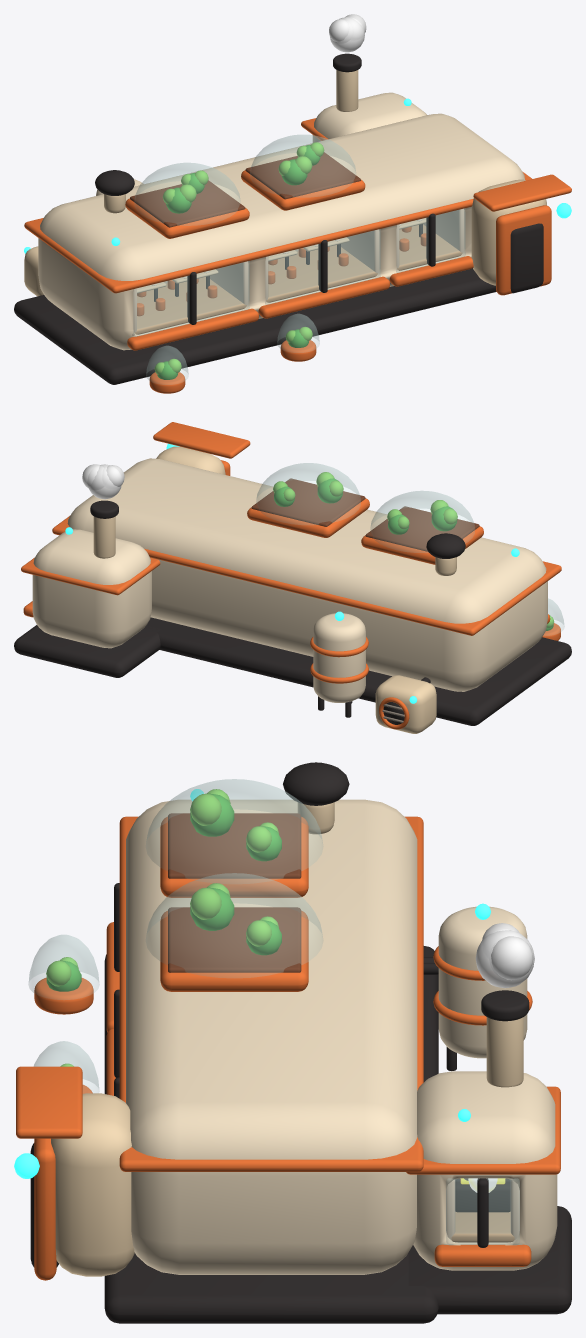
Rendered from canteen-20.glb.
The picture shows the model from 3 angles, top to bottom: view 1: azimuth 30°, elevation 25°; view 2: azimuth 150°, elevation 25°; view 3: azimuth 270°, elevation 25°; orthographic projection. The views are drawn at different scales.
Visible parts, largest first — view 1: Cube.001, Cube.008, Cube, Cube.009, Cube.003, Cube.006, Cube.051, Cube.002, Sphere.002, Cylinder.052, Sphere.015; view 2: Cube.001, Cube, Cube.009, Cube.008, Cube.006, Cube.051, Cylinder.052, Sphere.002, Sphere.015; view 3: Cube.001, Cube.008, Cube, Cube.009, Cube.006, Cube.051, Sphere.002, Cylinder.052, Sphere.015, Cube.003, Cube.002, Sphere.013.
Part boxes in pixels (x1=…): Cube.001: x1=38, y1=92, x2=524, y2=350; Cube.008: x1=133, y1=134, x2=465, y2=384; Cube: x1=14, y1=53, x2=543, y2=384; Cube.009: x1=24, y1=118, x2=571, y2=393; Cube.003: x1=135, y1=224, x2=462, y2=334; Cube.006: x1=24, y1=70, x2=546, y2=296; Cube.051: x1=130, y1=152, x2=360, y2=227; Cube.002: x1=132, y1=208, x2=464, y2=335; Sphere.002: x1=154, y1=142, x2=324, y2=374; Cylinder.052: x1=157, y1=145, x2=320, y2=379; Sphere.015: x1=329, y1=14, x2=366, y2=52; Cube.001: x1=32, y1=458, x2=547, y2=702; Cube: x1=14, y1=500, x2=571, y2=725; Cube.009: x1=21, y1=422, x2=561, y2=729; Cube.008: x1=256, y1=463, x2=564, y2=635; Cube.006: x1=93, y1=446, x2=456, y2=733; Cube.051: x1=251, y1=478, x2=479, y2=551; Cylinder.052: x1=274, y1=478, x2=553, y2=630; Sphere.002: x1=273, y1=472, x2=554, y2=627; Sphere.015: x1=82, y1=464, x2=124, y2=499; Cube.001: x1=126, y1=799, x2=557, y2=1274; Cube.008: x1=28, y1=779, x2=519, y2=1244; Cube: x1=30, y1=762, x2=571, y2=1323; Cube.009: x1=16, y1=816, x2=560, y2=1280; Cube.006: x1=51, y1=802, x2=523, y2=1276; Cube.051: x1=168, y1=813, x2=301, y2=972; Sphere.002: x1=46, y1=789, x2=278, y2=1066; Cylinder.052: x1=46, y1=793, x2=281, y2=991; Sphere.015: x1=475, y1=923, x2=534, y2=988; Cube.003: x1=451, y1=1212, x2=514, y2=1242; Cube.002: x1=446, y1=1180, x2=519, y2=1239; Sphere.013: x1=14, y1=789, x2=490, y2=1178.
Size of the model in its own units: 2.3 by 0.974 by 1.5.
